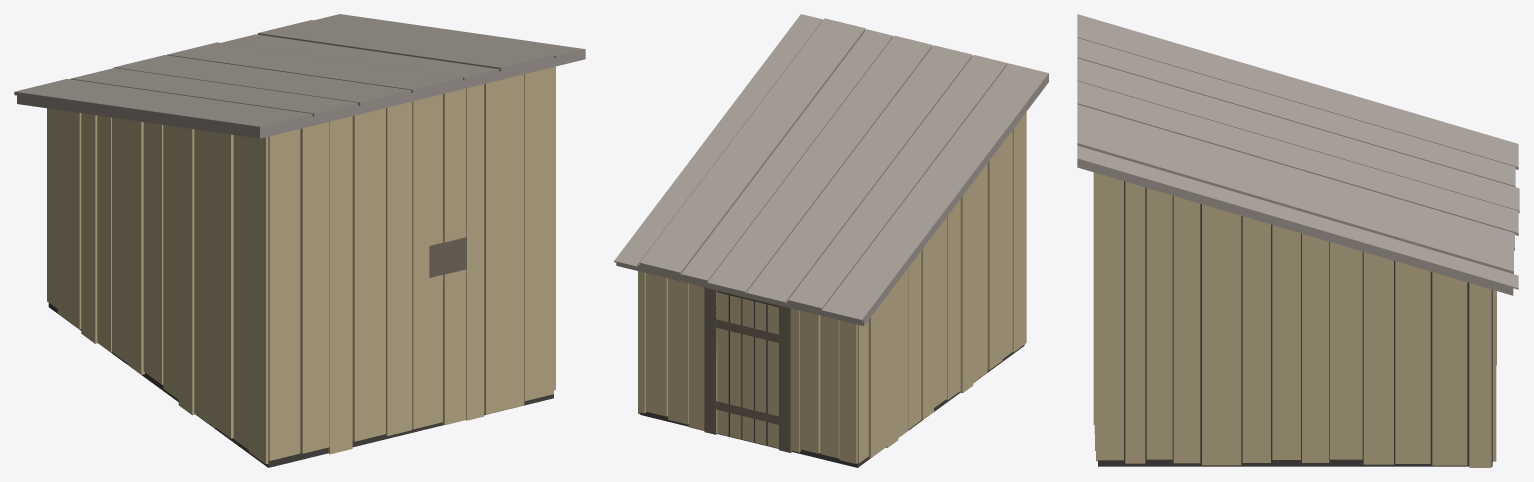
The model's file is recon_1835_blk_washington_clark_a4_07__inferred_1835.glb.
3 views of the same model, side by side, from view 1: azimuth 30°, elevation 25°; view 2: azimuth 150°, elevation 25°; view 3: azimuth 270°, elevation 25° (orthographic). The views are drawn at different scales.
Parts seen in each view (by area): view 1: recon_1835_blk_washington_clark_a4_07__inferred_1835; view 2: recon_1835_blk_washington_clark_a4_07__inferred_1835; view 3: recon_1835_blk_washington_clark_a4_07__inferred_1835.
Part boxes in pixels (<box>): recon_1835_blk_washington_clark_a4_07__inferred_1835: <box>14,14,585,467</box>; recon_1835_blk_washington_clark_a4_07__inferred_1835: <box>614,14,1048,467</box>; recon_1835_blk_washington_clark_a4_07__inferred_1835: <box>1077,14,1519,467</box>.
Bounding box in the file's own units: 3.39 × 3.53 × 4.44.
